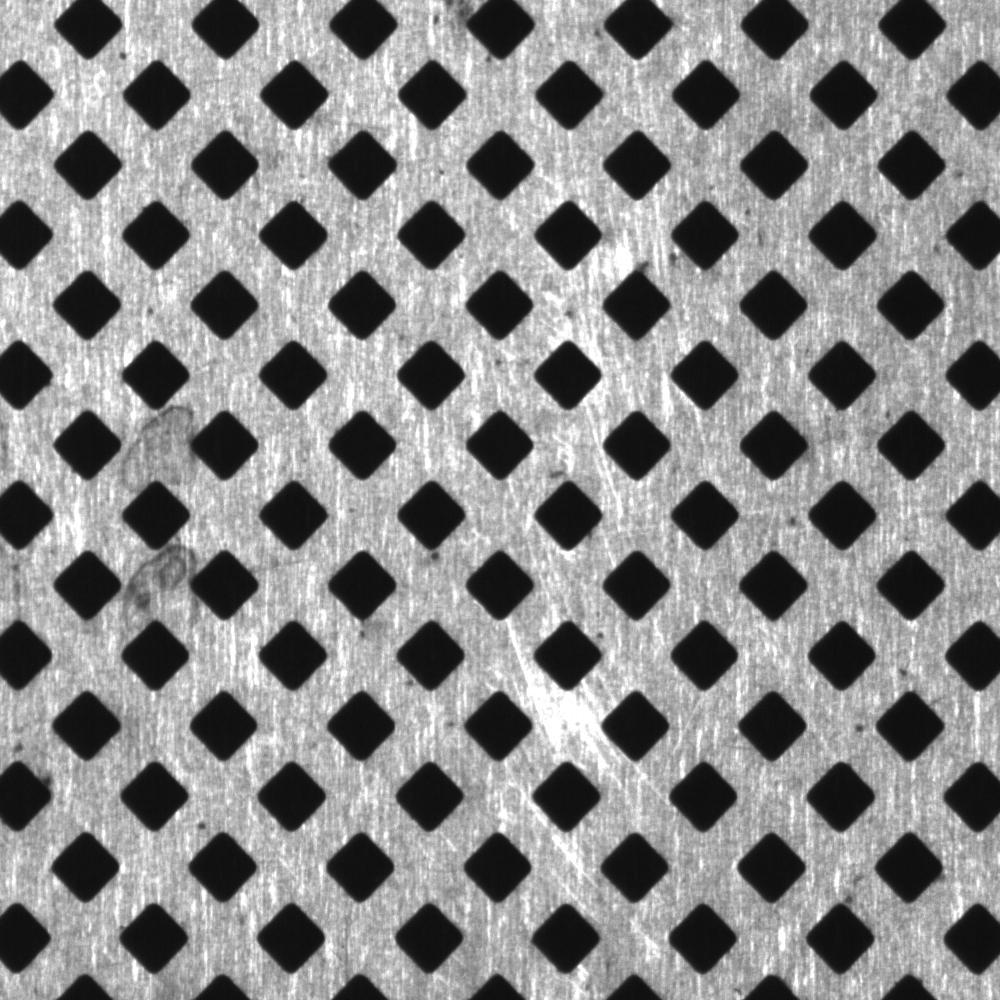Discolor: (114, 400, 205, 494), (117, 539, 206, 632)
